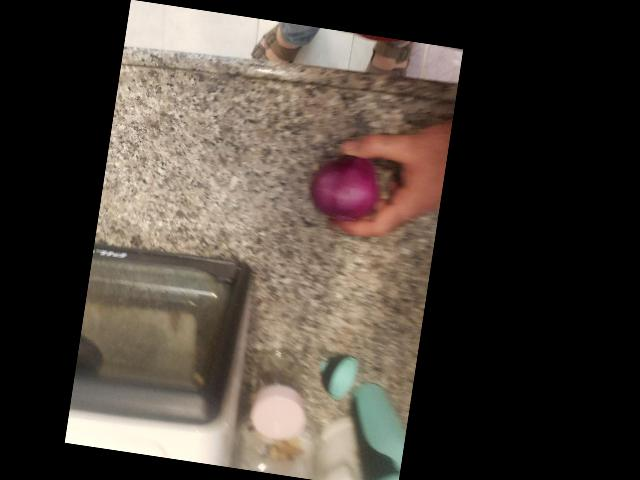onion: (312, 148, 378, 223)
